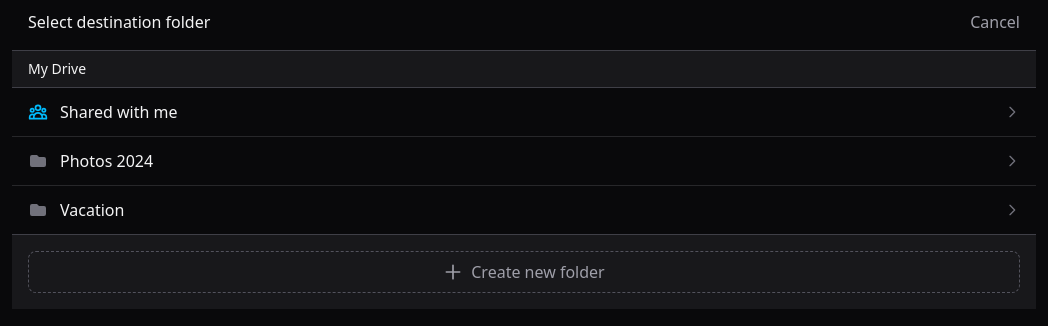
Test: DestinationFolderPicker › shows input field when clicking create new folder
The width and height of the screenshot is (1048, 326).
Expected: the text "Photos 2024" is shown, [60,150,153,172]
Click the button "Create new folder". click: (524, 272)
box: [28,251,1020,293]
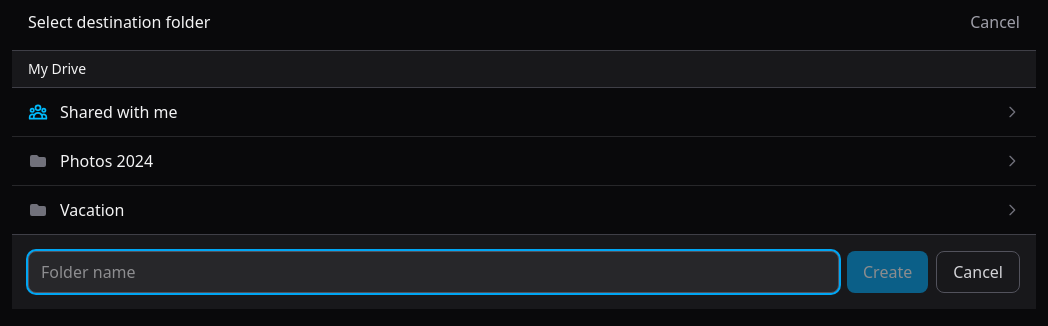
Expected: the field with placeholder "Folder name" is shown, [28,251,839,293]
